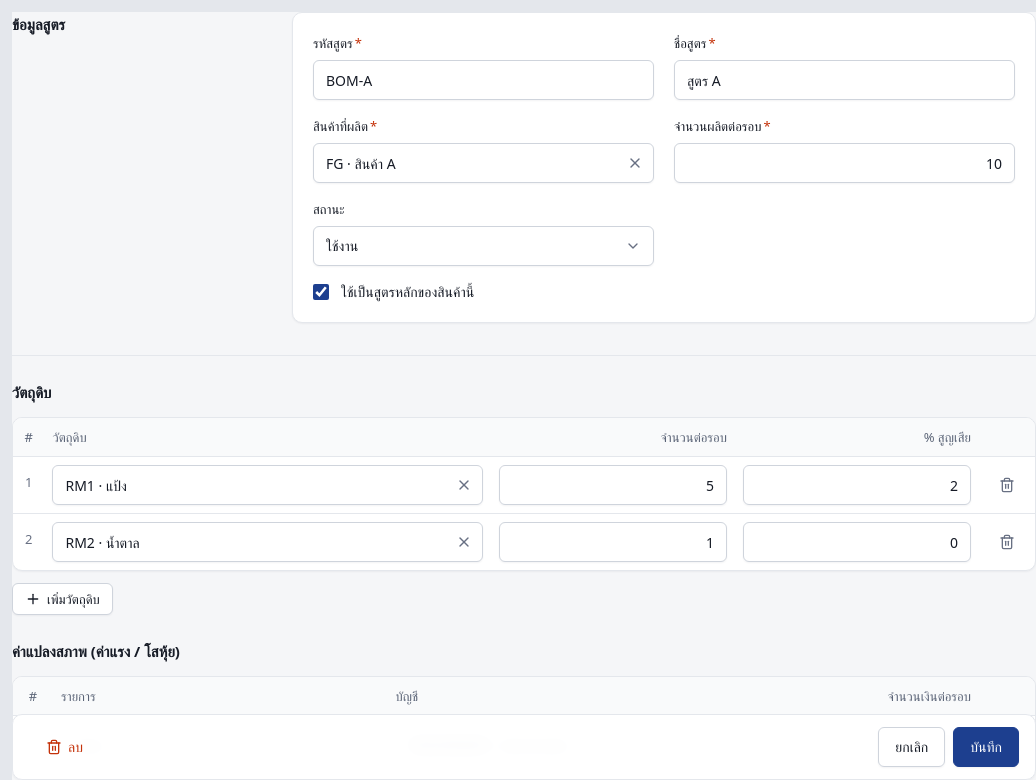
BomForm › จำนวนต่อรอบ 0 / % สูญเสียเกิน 100 / จำนวนผลิตว่าง แจ้งที่ช่องและไม่ส่ง
Replace the text in the field labelled "จำนวนต่อรอบ บรรทัด 2" with "0" at coordinates (613, 542), box [500,523,726,561]
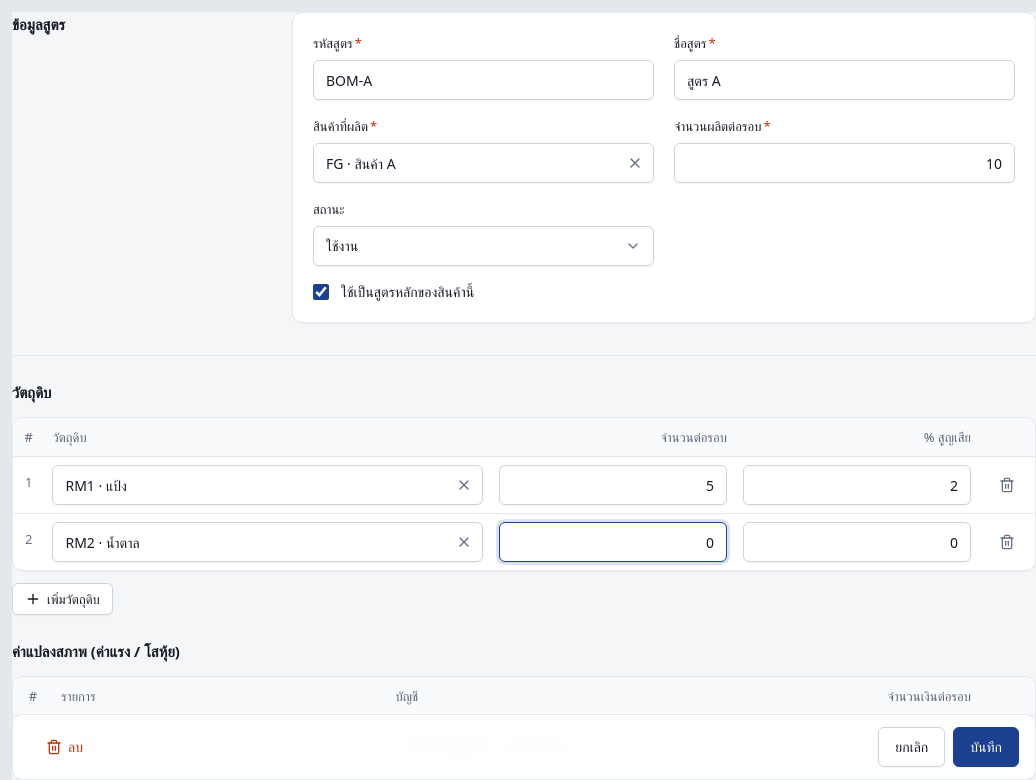
Replace the text in the field labelled "% สูญเสีย บรรทัด 1" with "120" at coordinates (857, 485), box [744,466,970,504]
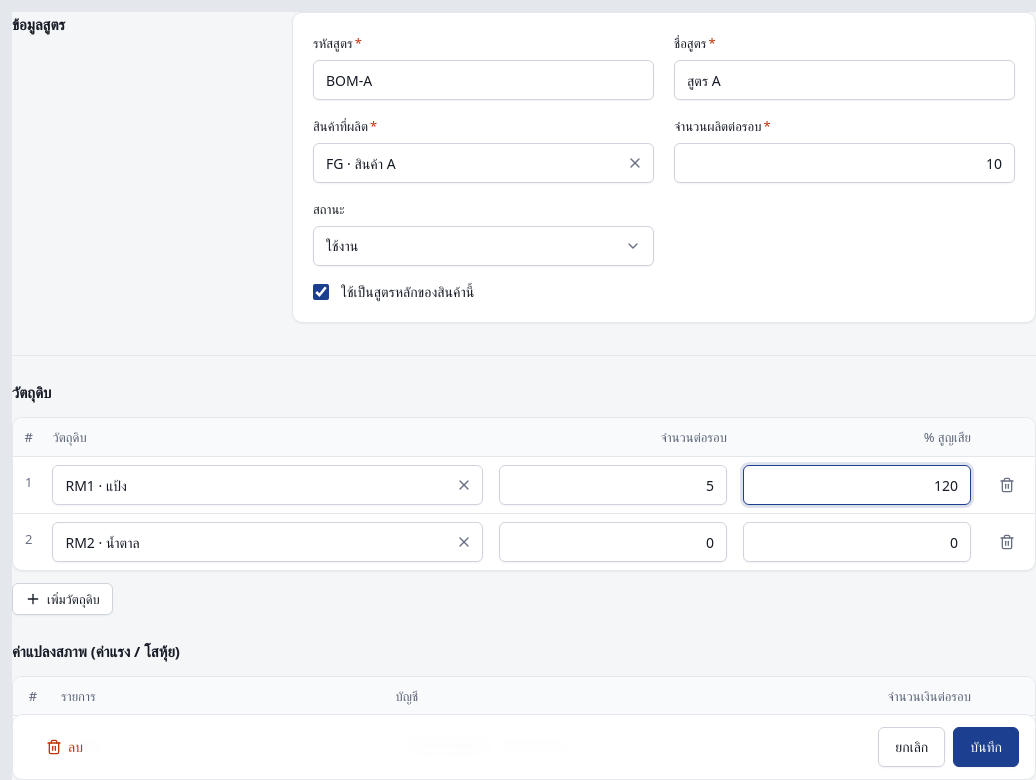
Clear the field labelled "จำนวนผลิตต่อรอบ" at coordinates (844, 163), box [675,144,1014,182]
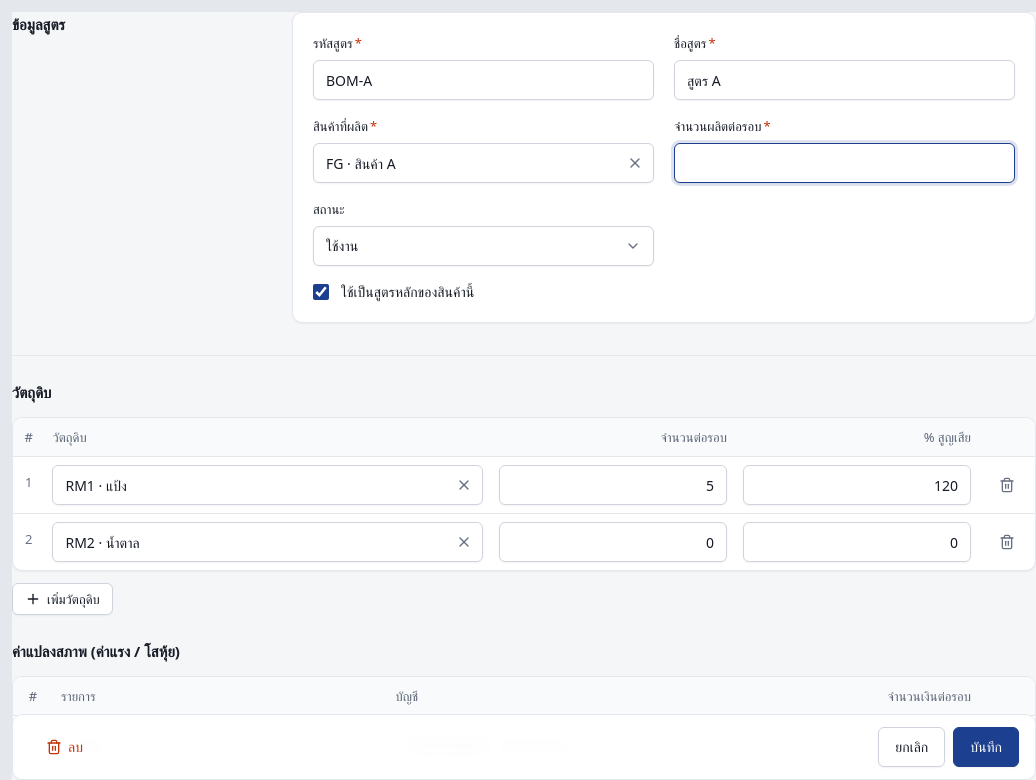
Click the button "บันทึก" at coordinates (986, 747), box [953,727,1019,767]
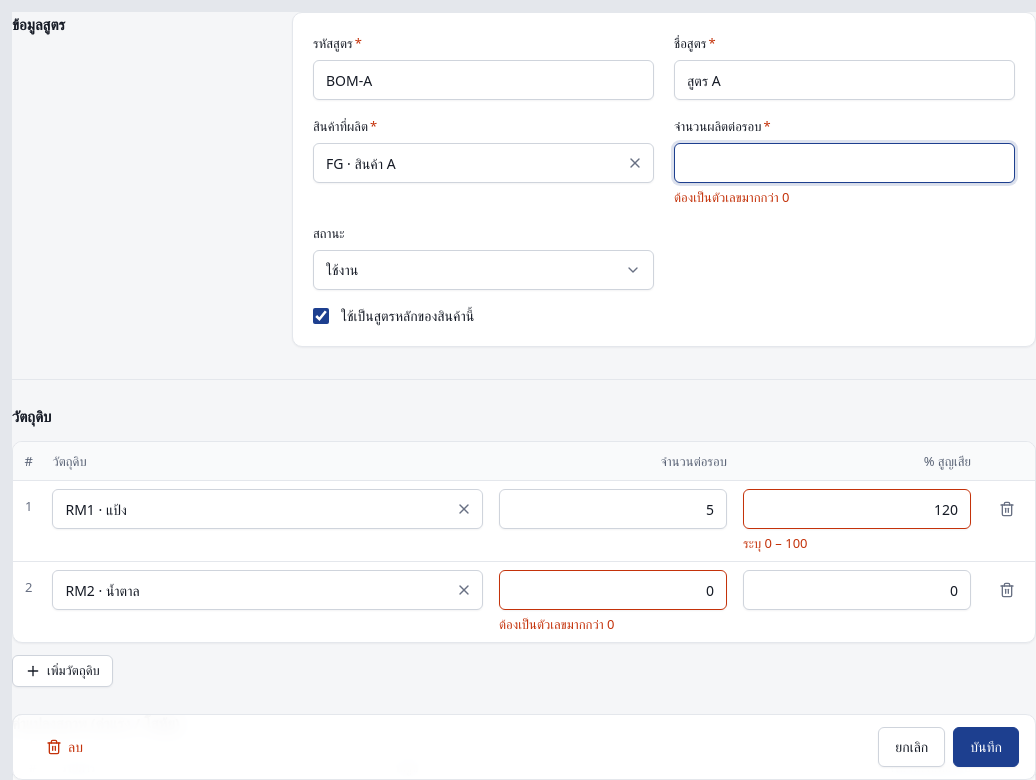
Expected: the text "ต้องเป็นตัวเลขมากกว่า 0" is shown 2 times, [674,188,789,206]; [499,615,614,633]
Expected: the text "ระบุ 0 – 100" is shown, [743,534,808,552]
